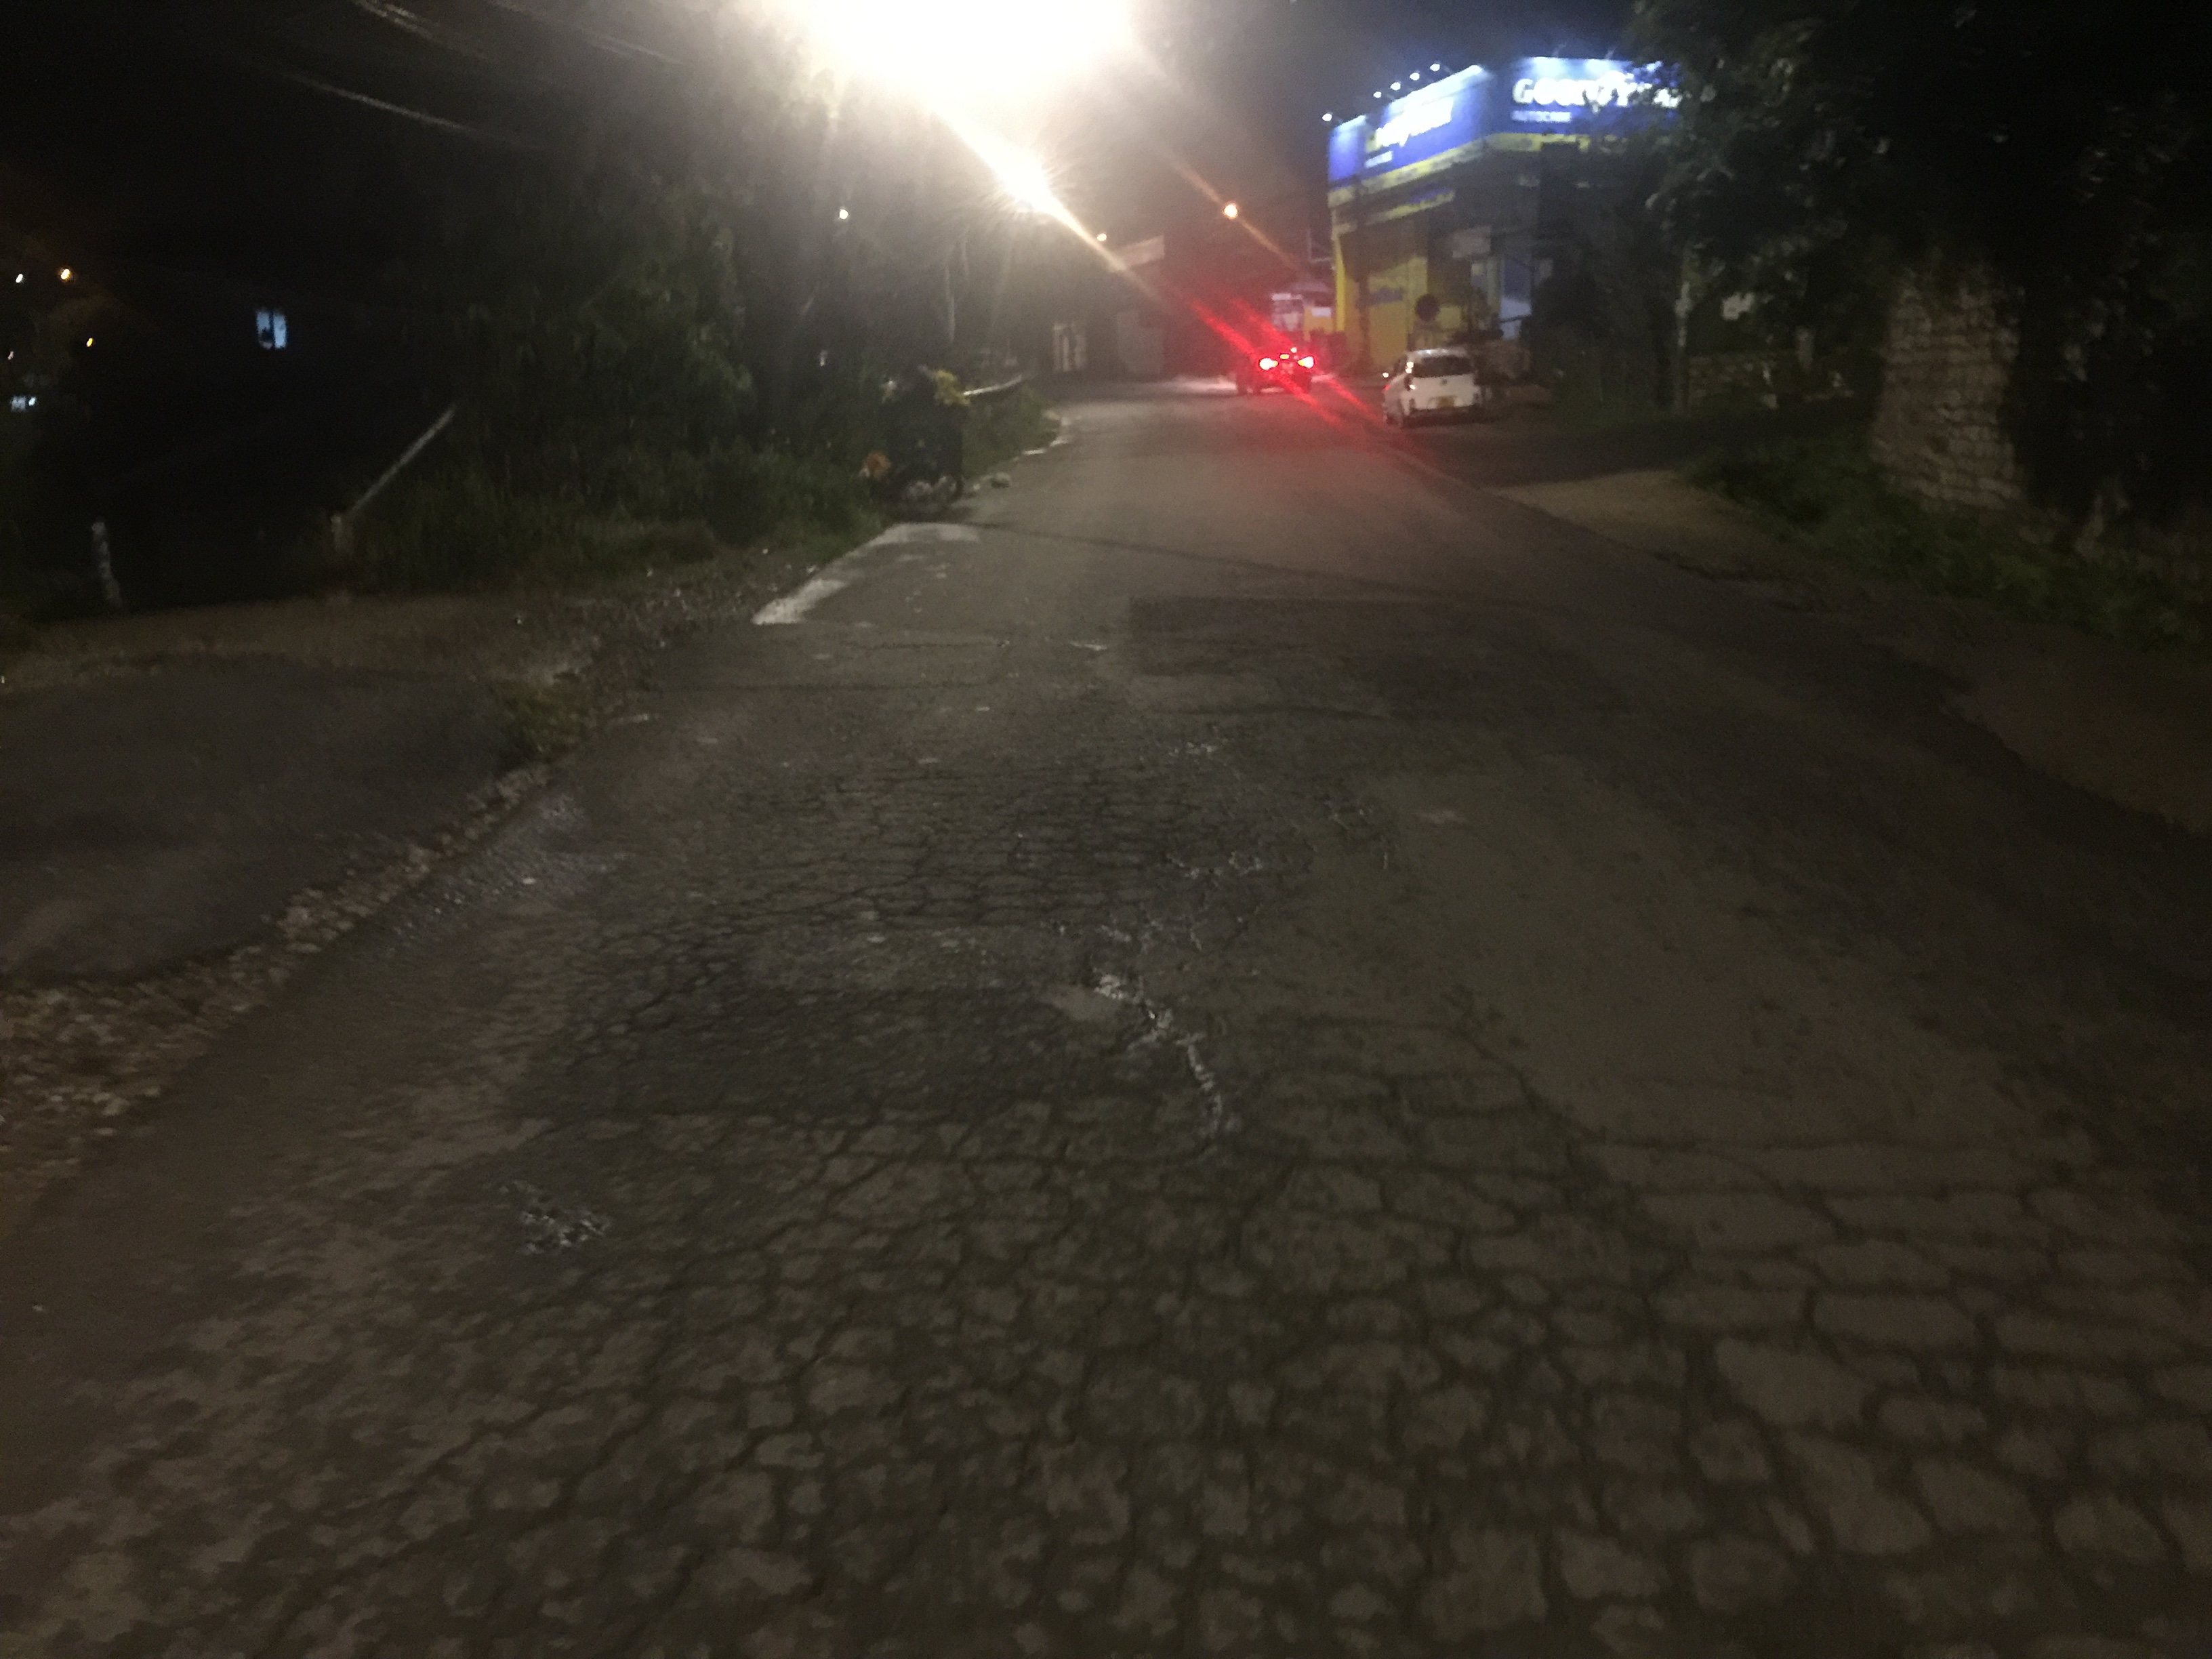hole: (564, 918, 1247, 1133)
